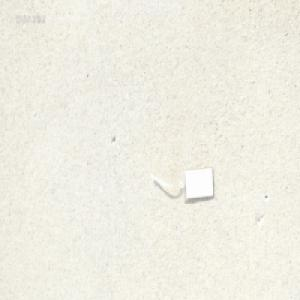LuggageTag: (149, 165, 214, 203)
